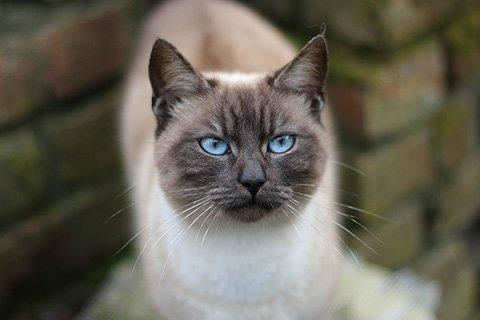siamese: (140, 28, 344, 231)
